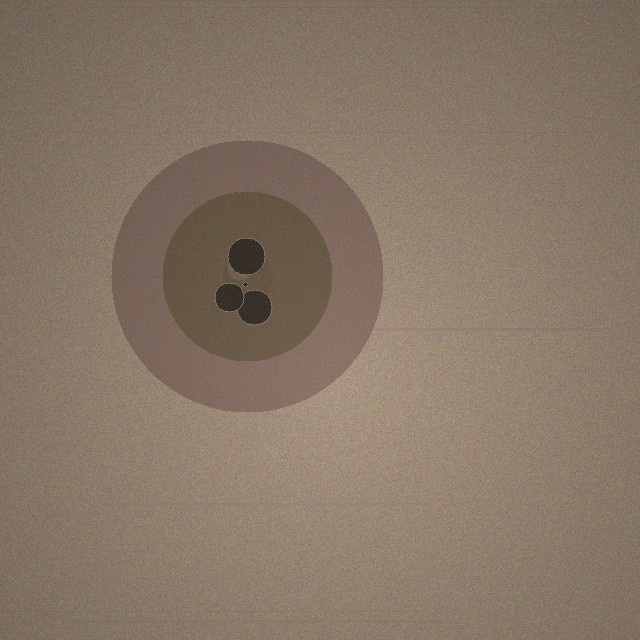shrinkage: (111, 140, 383, 412)
